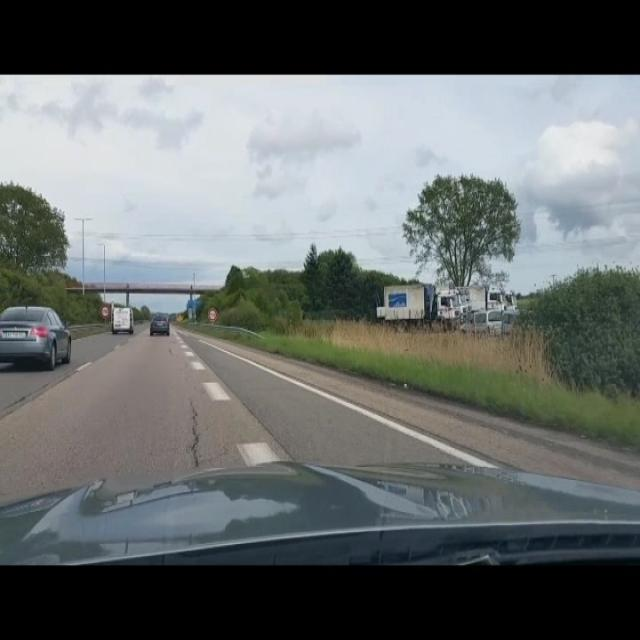speed_110: (207, 307, 218, 322), (100, 304, 110, 319)
